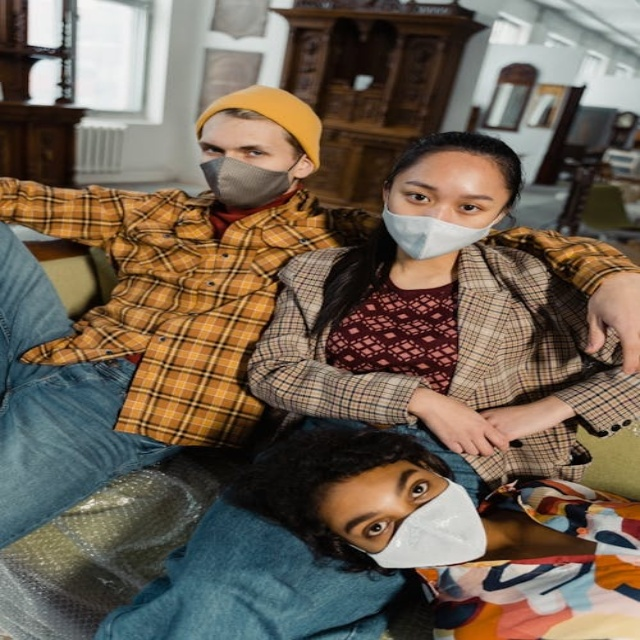Mascara: (349, 478, 489, 569), (378, 192, 497, 259), (199, 155, 298, 208)
Sin_gafas: (364, 520, 390, 538), (410, 481, 430, 499), (405, 192, 432, 204), (458, 203, 484, 213), (244, 149, 269, 157), (203, 146, 224, 155)
